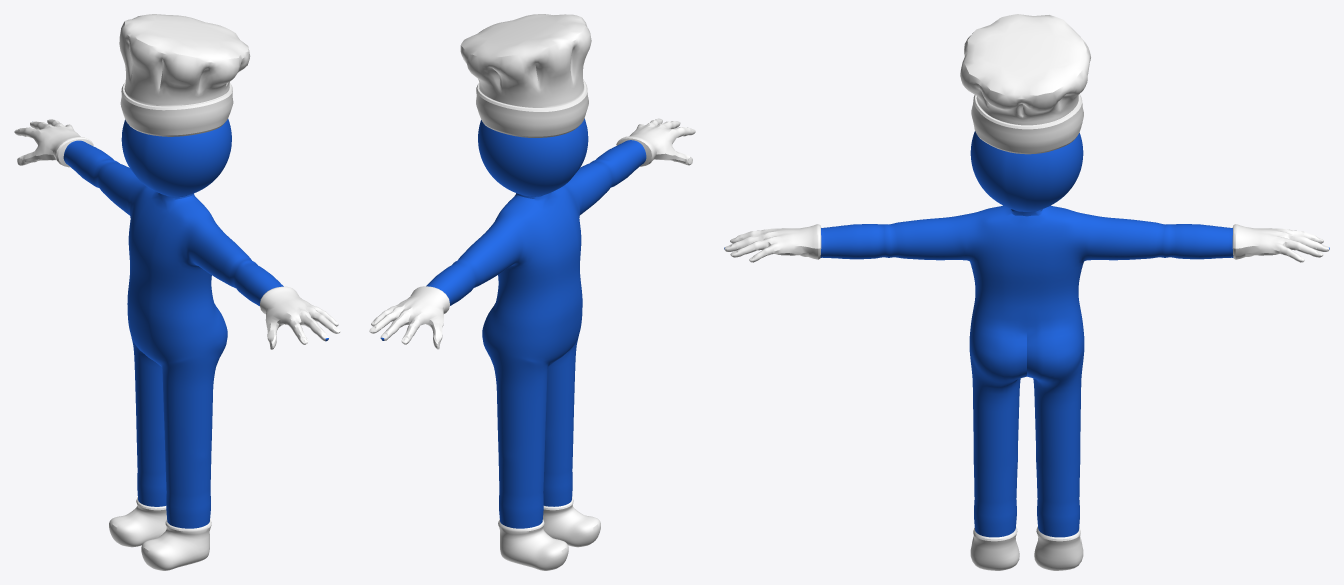
The model's file is PopoChefStickman.fbx.
3 views of the same model, side by side, from view 1: azimuth 30°, elevation 25°; view 2: azimuth 150°, elevation 25°; view 3: azimuth 270°, elevation 25° (orthographic). The views are drawn at different scales.
Parts seen in each view (by area): view 1: PopoMeanBooty; view 2: PopoMeanBooty; view 3: PopoMeanBooty.
Boxes of the visible parts, bbox=[...] form: PopoMeanBooty: bbox=[14, 14, 340, 570]; PopoMeanBooty: bbox=[369, 14, 695, 570]; PopoMeanBooty: bbox=[724, 14, 1329, 570].
Size of the model in its own units: 43.96 by 194 by 199.
